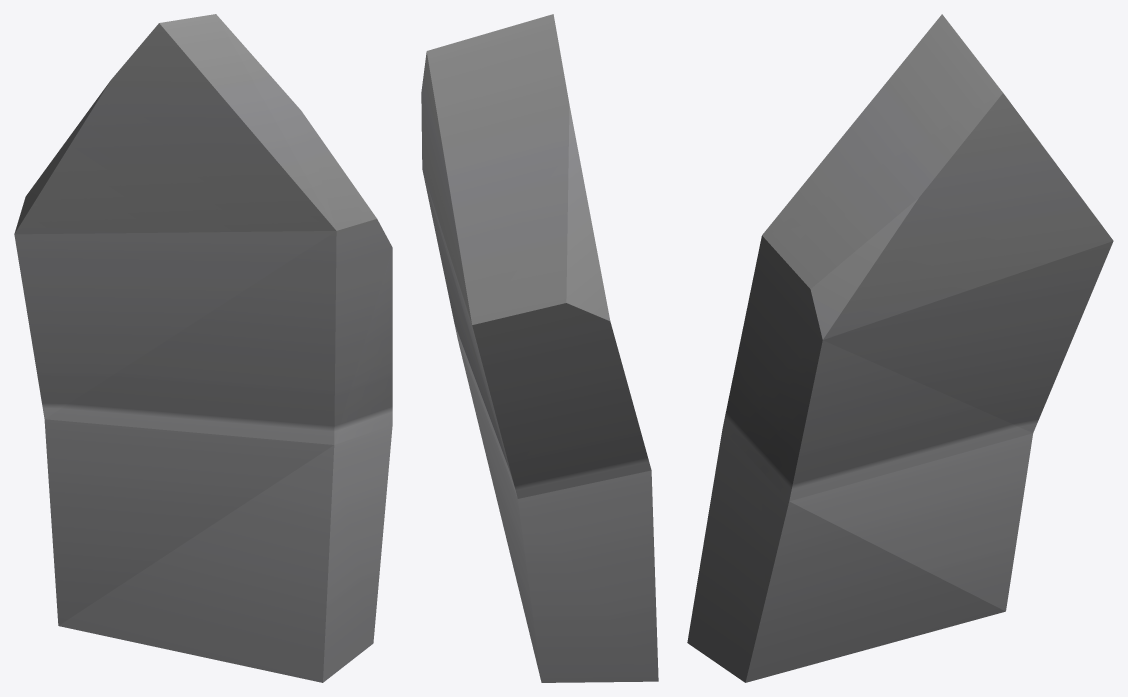
The model's file is ea_grave_stone_mini_01c_pre__8__lev1.glb.
The picture shows the model from 3 angles, left to right: view 1: azimuth 30°, elevation 25°; view 2: azimuth 150°, elevation 25°; view 3: azimuth 270°, elevation 25°; orthographic projection. The views are drawn at different scales.
Visible parts, largest first — view 1: ea_grave_stone_mini_01c_pre__8__lev1; view 2: ea_grave_stone_mini_01c_pre__8__lev1; view 3: ea_grave_stone_mini_01c_pre__8__lev1.
Boxes of the visible parts, left/top/right/bottom form: ea_grave_stone_mini_01c_pre__8__lev1: left=14, top=14, right=392, bottom=682; ea_grave_stone_mini_01c_pre__8__lev1: left=421, top=14, right=658, bottom=682; ea_grave_stone_mini_01c_pre__8__lev1: left=687, top=14, right=1113, bottom=682.
Bounding box in the file's own units: 0.3504 × 0.6991 × 0.4446.
Materials: 1 (1 with a texture image).
